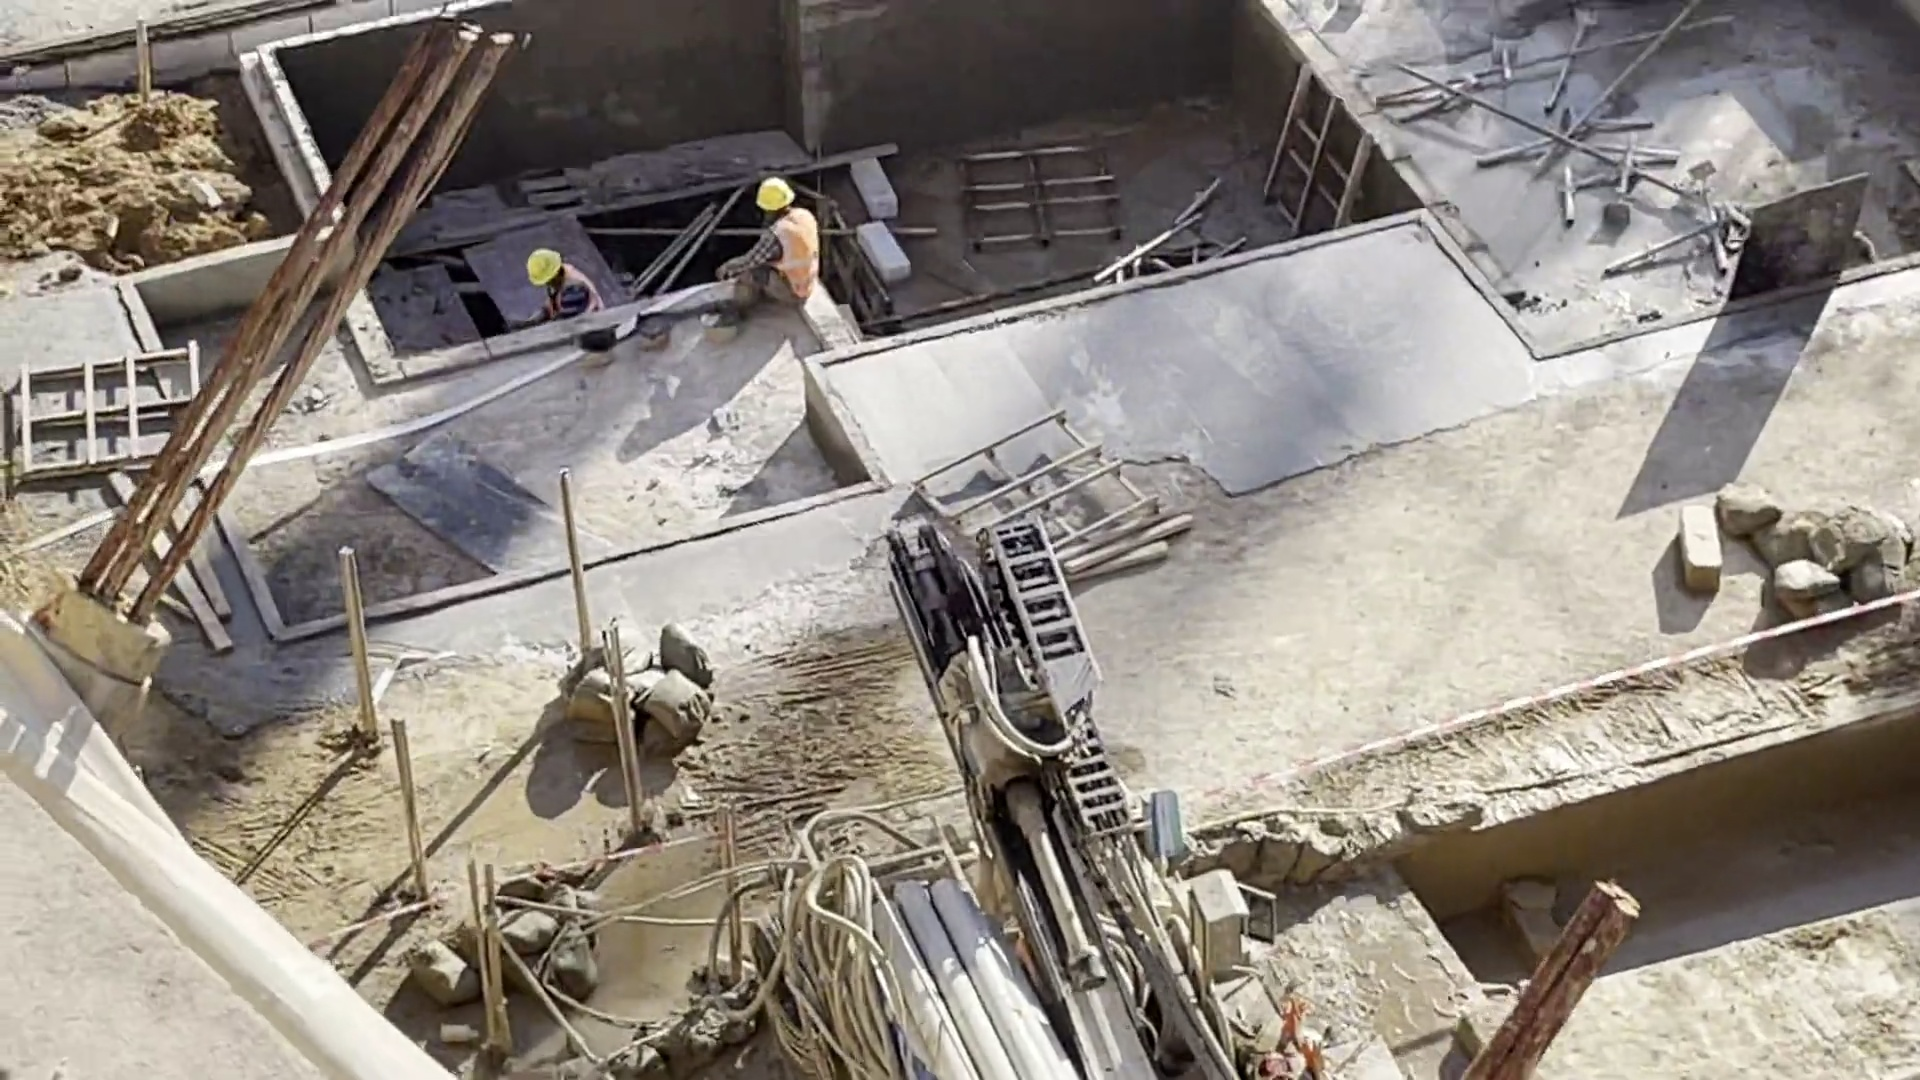helmet: (748, 175, 790, 222), (519, 246, 557, 283)
person: (737, 171, 823, 312), (521, 238, 604, 328)
vest: (749, 215, 813, 294), (537, 274, 600, 326)
